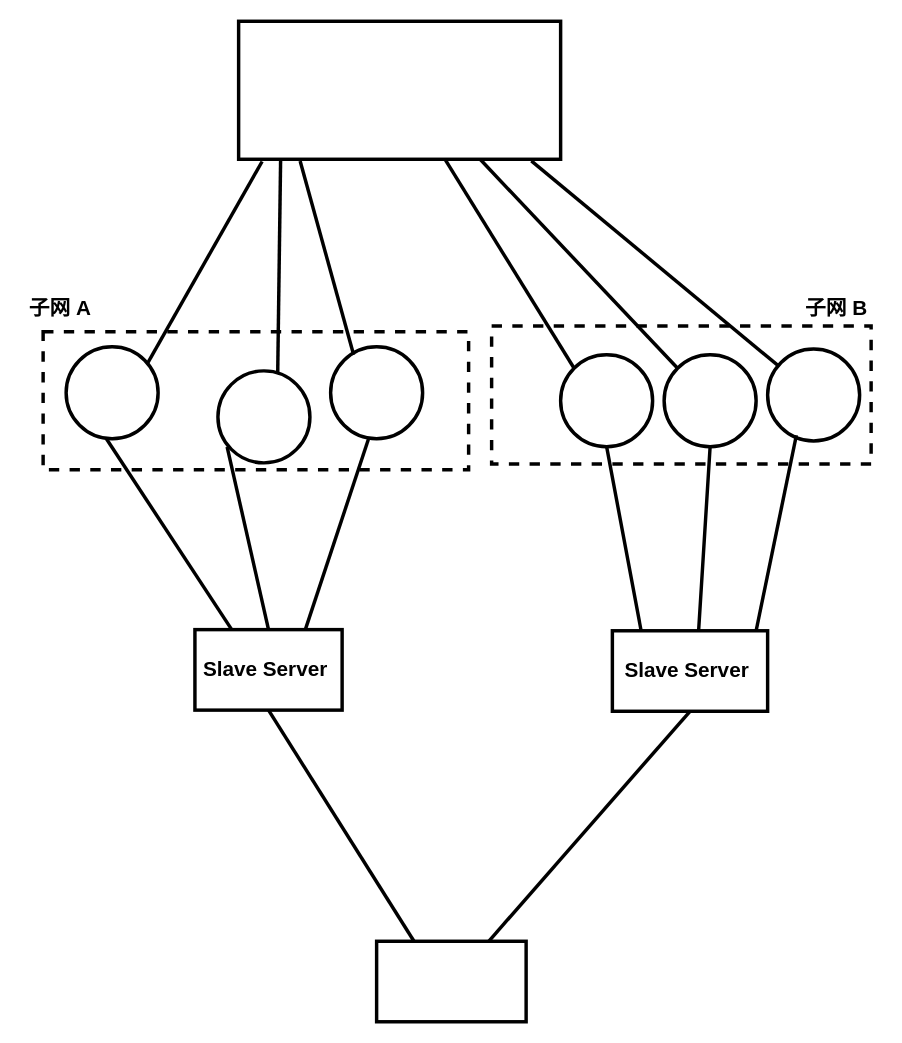
This 902x1043 diagram has some shape labels left out. The centre of each missing label's shape, as x and y in pixels:
Client: [399,89]
Main Server: [450,981]
